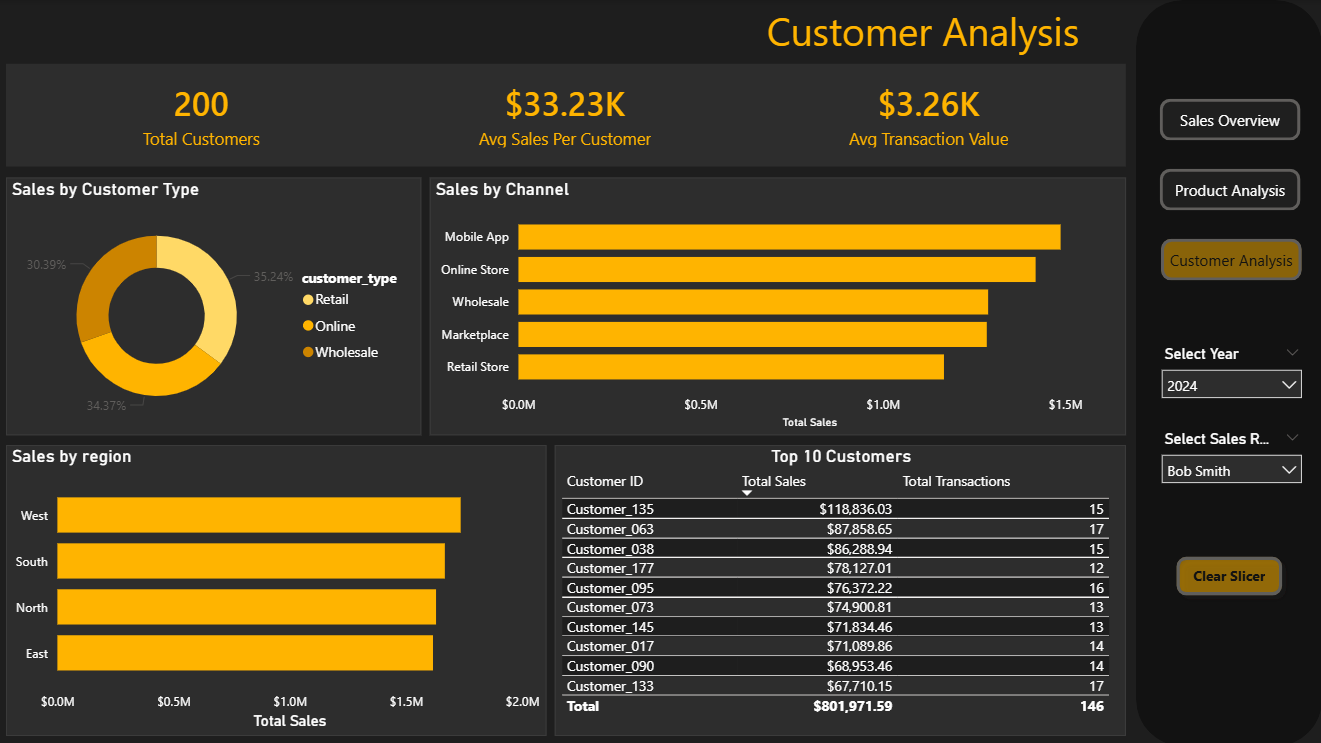

Layout of this report page (visuals, bound fields, positions):
{"tool":"powerbi","page":{"name":"Customer Analysis","canvas":[1280,720],"ordinal":2},"visuals":[{"type":"cardVisual","fields":{"Data":["_Measures.Total Customers","_Measures.Avg Sales Per Customer","_Measures.Avg Transaction Value"]},"box":[9.7,61.5,1081,98.9],"z":0},{"type":"shape","box":[1100.2,0,179.8,720.2],"z":1000},{"type":"donutChart","title":"Sales by Customer Type","fields":{"Category":["customer_dim.customer_type"],"Y":["_Measures.Total Sales"]},"box":[9.7,171.3,400.5,248.5],"z":2000},{"type":"slicer","fields":{"Values":["date_dim.year"]},"box":[1114.4,328.3,155.8,64],"z":3000},{"type":"barChart","title":"Sales by Channel","fields":{"Category":["channel_dim.channel_name"],"Y":["_Measures.Total Sales"]},"box":[418.6,171.3,672,248.5],"z":4000},{"type":"actionButton","box":[1130.8,528.3,119.8,55],"z":5000},{"type":"barChart","title":"Sales by region","fields":{"Y":["_Measures.Total Sales"],"Category":["customer_dim.region"]},"box":[9.7,429.9,521.7,281],"z":6000},{"type":"actionButton","box":[1123.5,95.4,135.7,40.4],"z":7000},{"type":"tableEx","title":"Top 10 Customers","fields":{"Values":["customer_dim.customer_name","_Measures.Total Sales","_Measures.Transactions"]},"box":[539.3,429.5,551.3,281.1],"z":8000},{"type":"actionButton","box":[1123.5,162.6,135.7,40.4],"z":9000},{"type":"textbox","box":[690.1,0,409,61.2],"z":10000},{"type":"actionButton","box":[1124.7,229.9,135.7,40.4],"z":11000},{"type":"slicer","fields":{"Values":["sales_rep_dim.sales_rep_name"]},"box":[1114.4,410.4,155.8,65.4],"z":12000}]}

Visuals, with their boxes in screenshot pixels (x1, y1, x2, y2), scaled from the page's 1280x720 canvas onto the 1321x743 screenshot:
cardVisual - _Measures.Total Customers x _Measures.Avg Sales Per Customer: bbox(10, 63, 1126, 166)
shape: bbox(1135, 0, 1320, 742)
"Sales by Customer Type" donutChart: bbox(10, 177, 423, 433)
slicer - date_dim.year: bbox(1150, 339, 1311, 405)
"Sales by Channel" barChart: bbox(432, 177, 1126, 433)
actionButton: bbox(1167, 545, 1291, 602)
"Sales by region" barChart: bbox(10, 444, 548, 734)
actionButton: bbox(1159, 98, 1300, 140)
"Top 10 Customers" tableEx: bbox(557, 443, 1126, 733)
actionButton: bbox(1159, 168, 1300, 209)
textbox: bbox(712, 0, 1134, 63)
actionButton: bbox(1161, 237, 1301, 279)
slicer - sales_rep_dim.sales_rep_name: bbox(1150, 424, 1311, 491)
